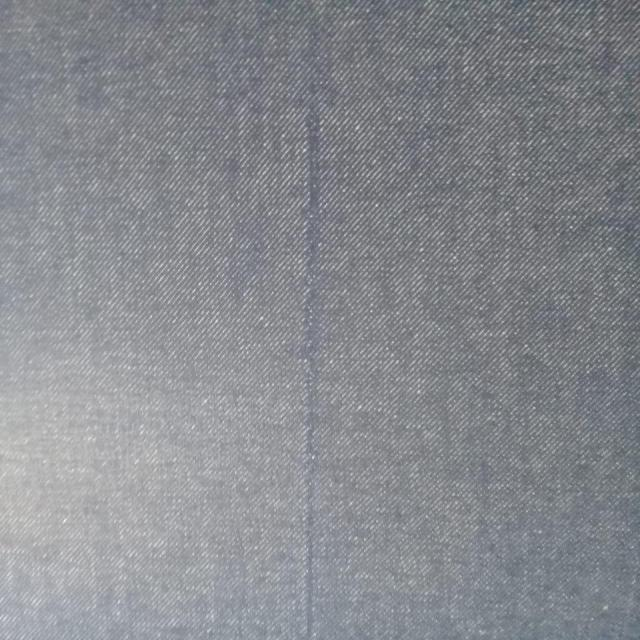Line: (303, 76, 319, 640)
